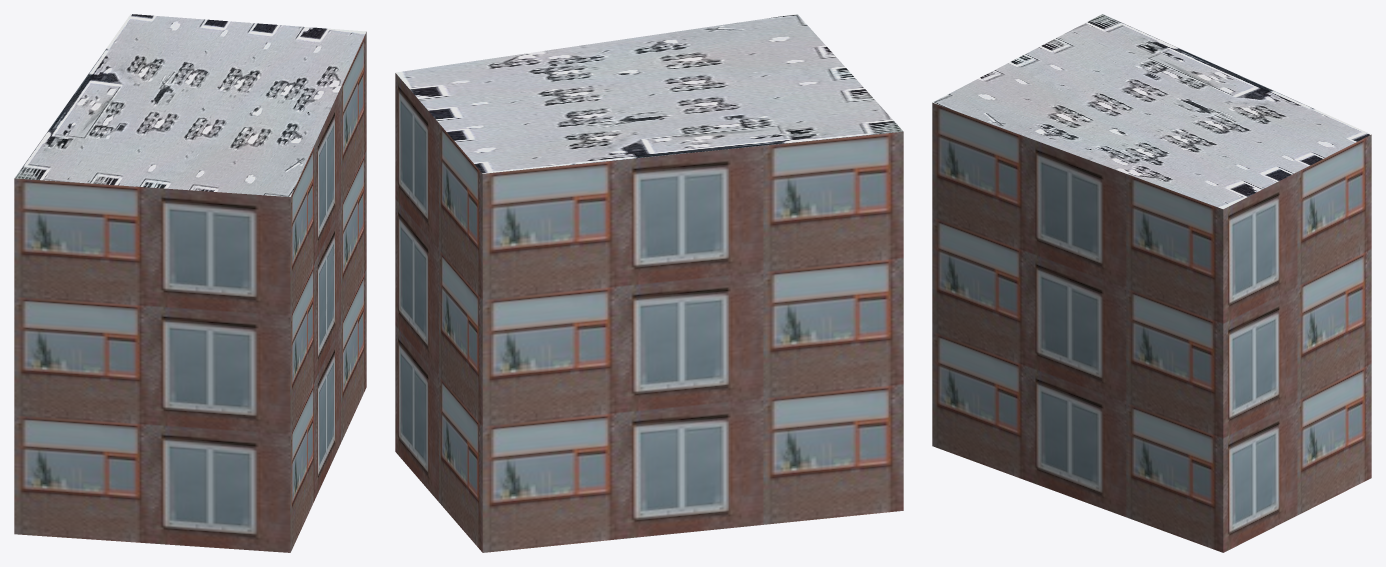
File: ResTex__4239.fbx
The picture shows the model from 3 angles, left to right: view 1: azimuth 30°, elevation 25°; view 2: azimuth 150°, elevation 25°; view 3: azimuth 270°, elevation 25°; orthographic projection. The views are drawn at different scales.
Parts seen in each view (by area): view 1: CityEngineMaterial_19_m, CityEngineMaterial_15_m; view 2: CityEngineMaterial_19_m, CityEngineMaterial_15_m; view 3: CityEngineMaterial_19_m, CityEngineMaterial_15_m.
Part boxes in pixels (box(x1,y1,x2,y2)): CityEngineMaterial_19_m: box(14, 32, 366, 552); CityEngineMaterial_15_m: box(15, 14, 366, 196); CityEngineMaterial_19_m: box(395, 73, 903, 552); CityEngineMaterial_15_m: box(395, 14, 903, 173); CityEngineMaterial_19_m: box(932, 102, 1371, 552); CityEngineMaterial_15_m: box(932, 14, 1371, 209).
Size of the model in its own units: 10.98 by 9 by 10.43.
Materials: 2 (2 with a texture image).
